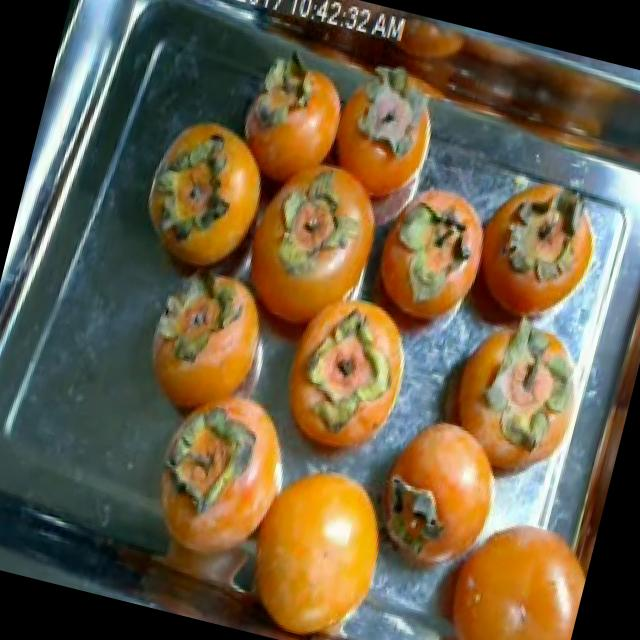Fruit: (215, 433, 402, 640)
